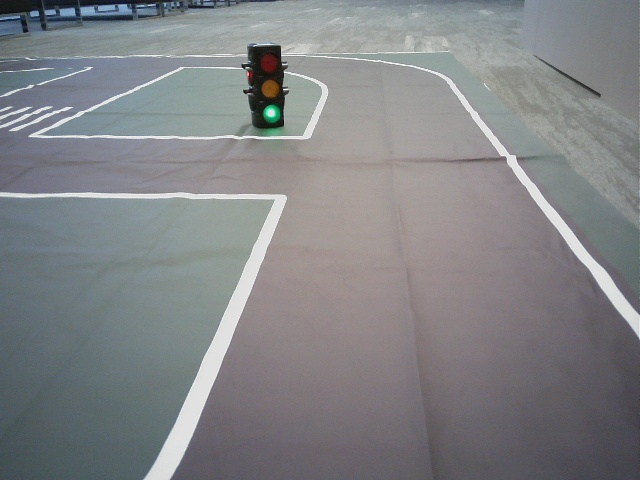green: (256, 47, 284, 125)
